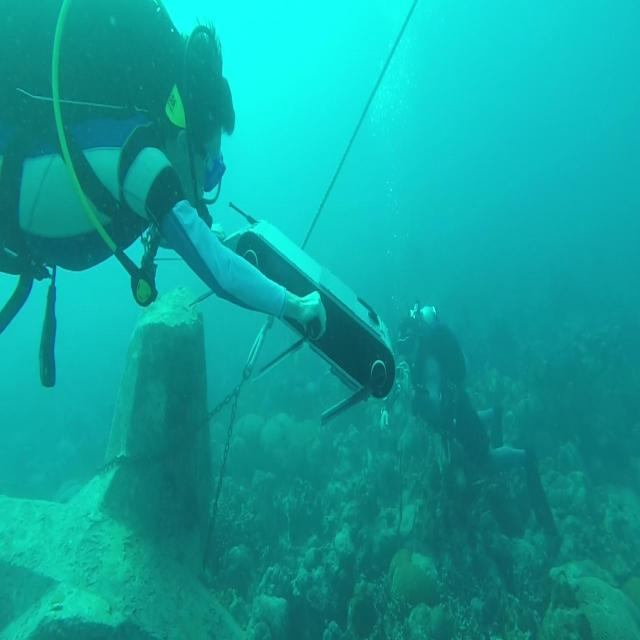human: (1, 1, 328, 390), (395, 300, 561, 552)
